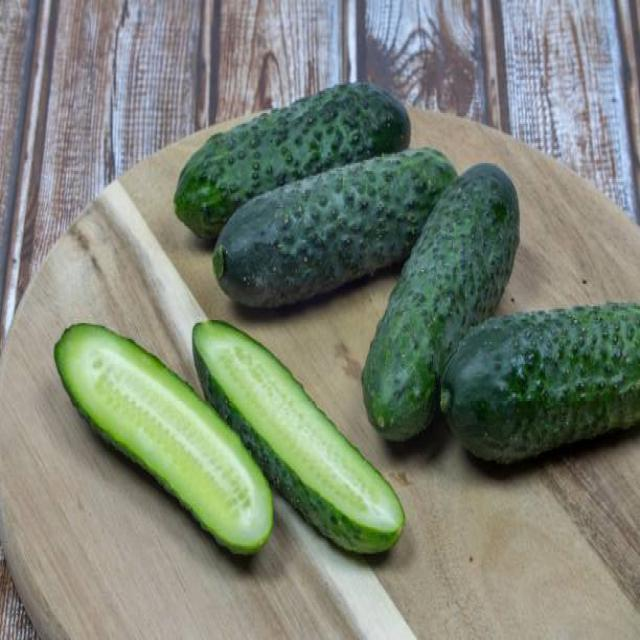cucumber: (176, 81, 457, 312), (191, 319, 403, 564), (53, 323, 273, 552), (361, 164, 518, 442), (440, 296, 640, 470)
